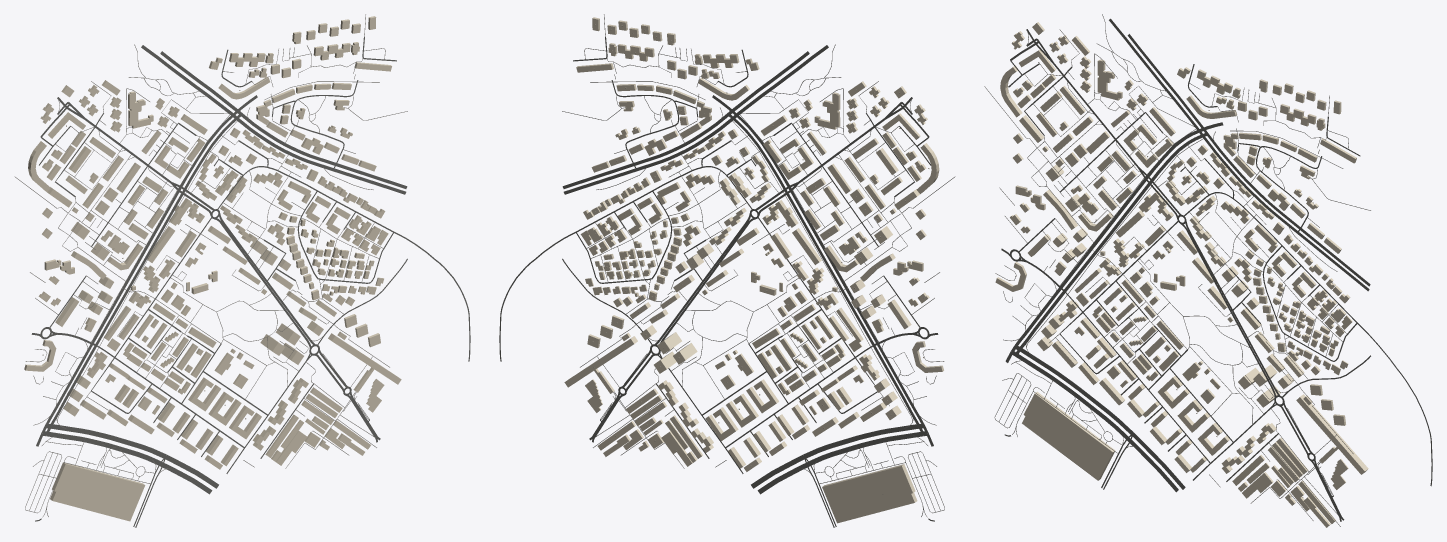
Rendered from historic-palestine-06_18_3477_3125.glb.
3 renders of one model, left to right at view 1: azimuth 30°, elevation 25°; view 2: azimuth 150°, elevation 25°; view 3: azimuth 330°, elevation 25°, orthographic.
Parts seen in each view (by area): view 1: Building_.012, Road העליה.001, Road שדרות דוד טוביהו.006, Road מצדה.005, Road שדרות דוד טוביהו.001, Road מצדה, Building_.228; view 2: Building_.012, Road העליה.001, Road שדרות דוד טוביהו.006, Road שדרות דוד טוביהו.001, Building_.228, Road מצדה, Road מצדה.005; view 3: Building_.012, Building_, Road העליה.001, Road שדרות דוד טוביהו.006, Road שדרות דוד טוביהו.001, Road מצדה.005, Building_.228, Road מצדה.
Part boxes in pixels (<box>): Building_.012: <box>50,462,145,521</box>; Road העליה.001: <box>222,166,470,361</box>; Road שדרות דוד טוביהו.006: <box>46,432,160,465</box>; Road מצדה.005: <box>86,190,179,352</box>; Road שדרות דוד טוביהו.001: <box>65,426,166,458</box>; Road מצדה: <box>95,193,183,345</box>; Building_.228: <box>128,91,153,128</box>; Building_.012: <box>822,464,917,523</box>; Road העליה.001: <box>499,166,747,361</box>; Road שדרות דוד טוביהו.006: <box>809,432,923,465</box>; Road שדרות דוד טוביהו.001: <box>803,426,904,458</box>; Building_.228: <box>814,92,840,129</box>; Road מצדה: <box>786,193,874,345</box>; Road מצדה.005: <box>790,190,883,352</box>; Building_.012: <box>1022,391,1115,480</box>; Building_: <box>1308,408,1368,474</box>; Road העליה.001: <box>1189,192,1432,486</box>; Road שדרות דוד טוביהו.006: <box>1015,353,1128,438</box>; Road שדרות דוד טוביהו.001: <box>1034,357,1133,434</box>; Road מצדה.005: <box>1054,178,1146,295</box>; Building_.228: <box>1097,59,1122,100</box>; Road מצדה: <box>1064,182,1150,292</box>.
Size of the model in its own units: 1260 by 1278 by 58.76.
